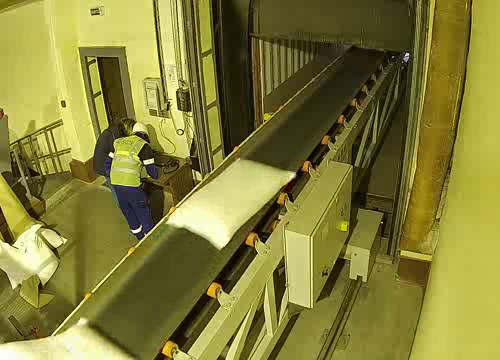bag: (157, 155, 303, 254), (0, 311, 140, 360)
